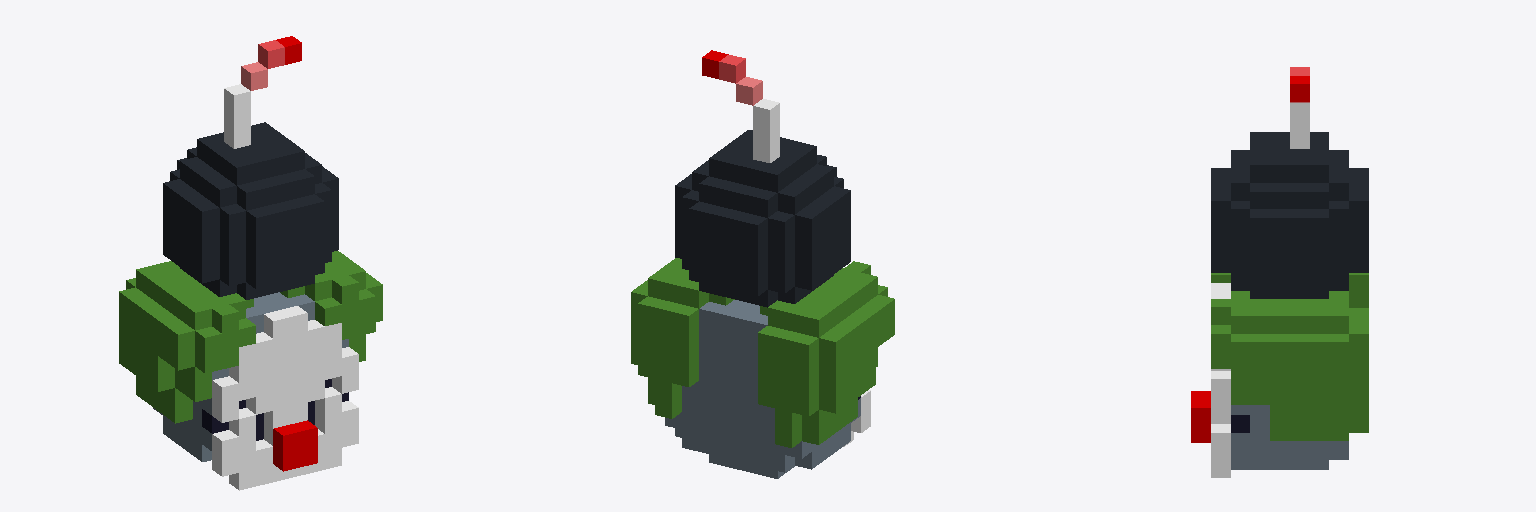
3 renders of one model, left to right at view 1: azimuth 30°, elevation 25°; view 2: azimuth 150°, elevation 25°; view 3: azimuth 270°, elevation 25°, orthographic.
Parts seen in each view (by area): view 1: object 1; view 2: object 1; view 3: object 1.
Part boxes in pixels (left/top/right/bottom): object 1: left=119, top=36, right=382, bottom=490; object 1: left=631, top=50, right=894, bottom=478; object 1: left=1191, top=67, right=1368, bottom=477.
Size of the model in its own units: 1.2 by 2.2 by 0.9.
1 materials, 1 textured.